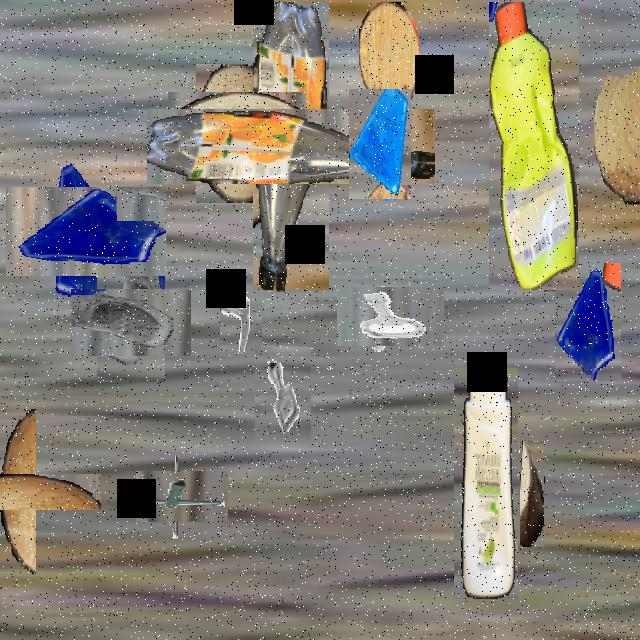glass: (23, 168, 148, 294), (84, 275, 178, 369), (555, 263, 621, 381), (349, 89, 411, 199)
metal: (349, 275, 433, 358), (255, 347, 311, 446), (146, 460, 218, 532), (220, 277, 262, 352)
plastic: (200, 55, 382, 237), (489, 2, 579, 290), (454, 368, 518, 599)
wood: (182, 78, 292, 189), (594, 41, 640, 204), (0, 441, 68, 543), (359, 2, 419, 105), (520, 441, 544, 547)
